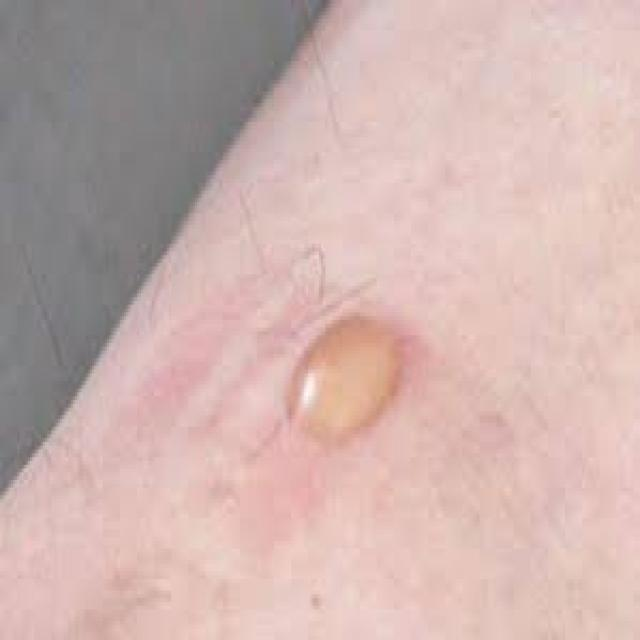Eczema: (276, 316, 426, 460)
